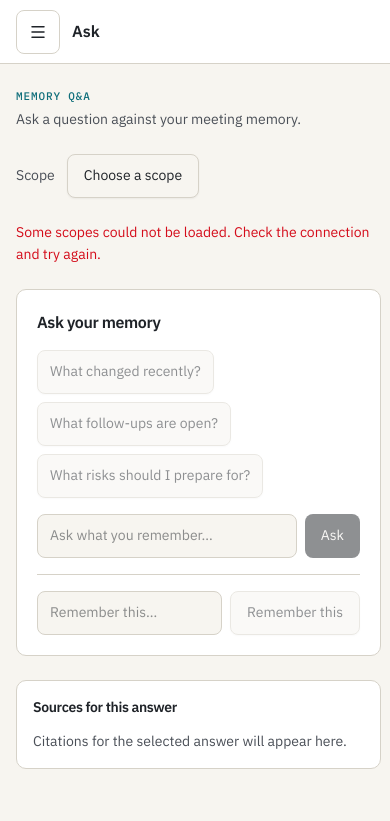
it: routing › shows the signed-in identity and exposes collapsible navigation
Click the button named "Open navigation" at [38, 32], box [16,10,60,54]
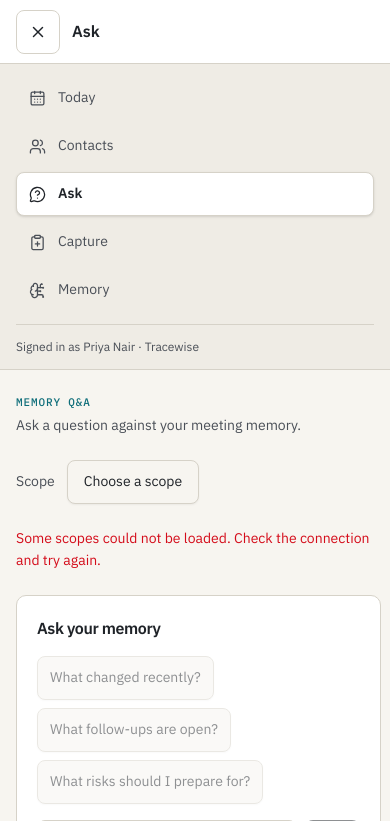
Expected: the button named "Open navigation" is expanded, [16,10,60,54]
Expected: the element with id "mobile-navigation" is shown, [0,64,389,370]
Expected: the navigation bar named "Main navigation" is shown, [16,76,374,312]
